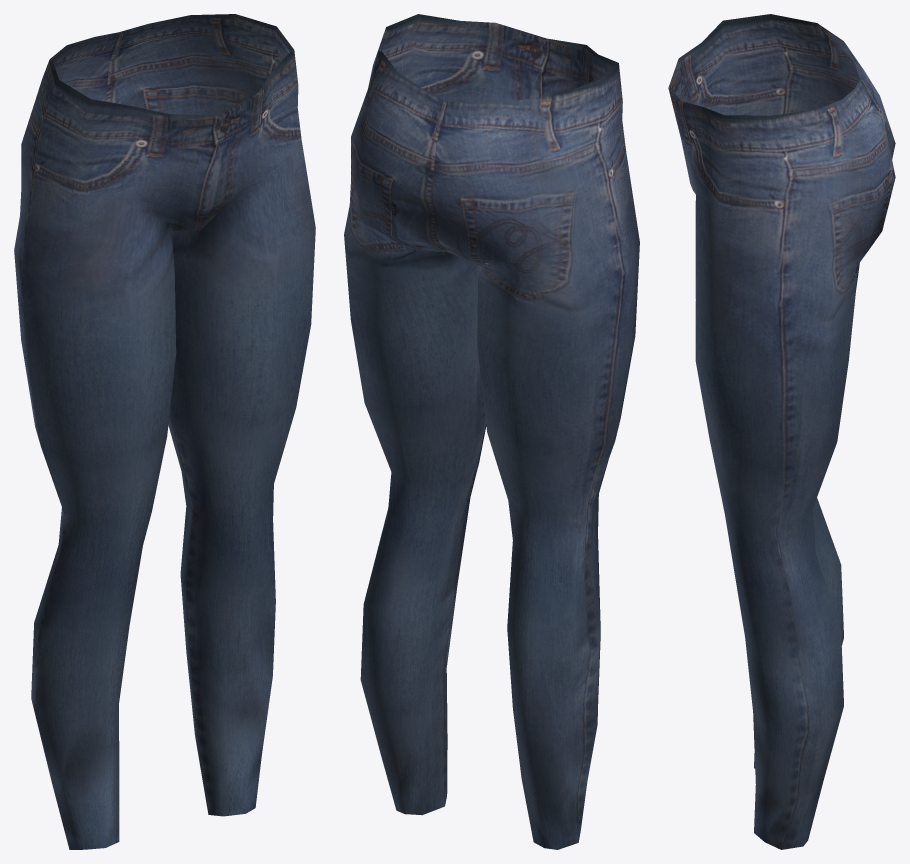
The model's file is TPFLeggins.fbx.
3 renders of one model, left to right at view 1: azimuth 30°, elevation 25°; view 2: azimuth 150°, elevation 25°; view 3: azimuth 270°, elevation 25°, orthographic. The views are drawn at different scales.
Parts seen in each view (by area): view 1: TPFLeggins; view 2: TPFLeggins; view 3: TPFLeggins.
Boxes of the visible parts, x1,y1,x2,y2 form: TPFLeggins: (14,14,315,849); TPFLeggins: (344,14,639,849); TPFLeggins: (668,14,895,849).
Size of the model in its own units: 32.34 by 84.91 by 23.53.
1 material, 1 textured.
